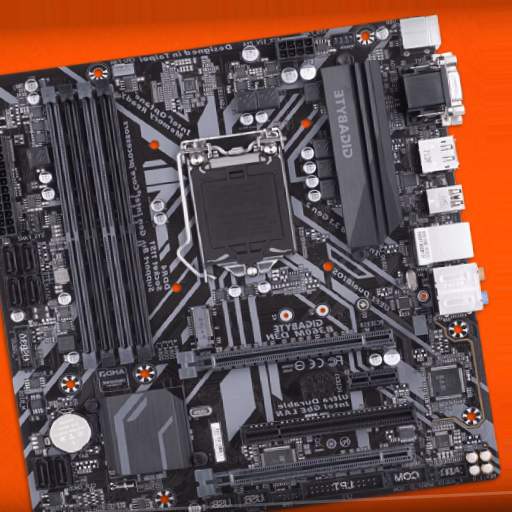CPU: (175, 127, 297, 281)
GPU: (193, 446, 415, 502), (176, 328, 396, 381), (239, 406, 416, 445)
MOTHERBOARD: (1, 17, 501, 512)
RAM: (38, 81, 155, 369)
SSD: (185, 305, 214, 352)
